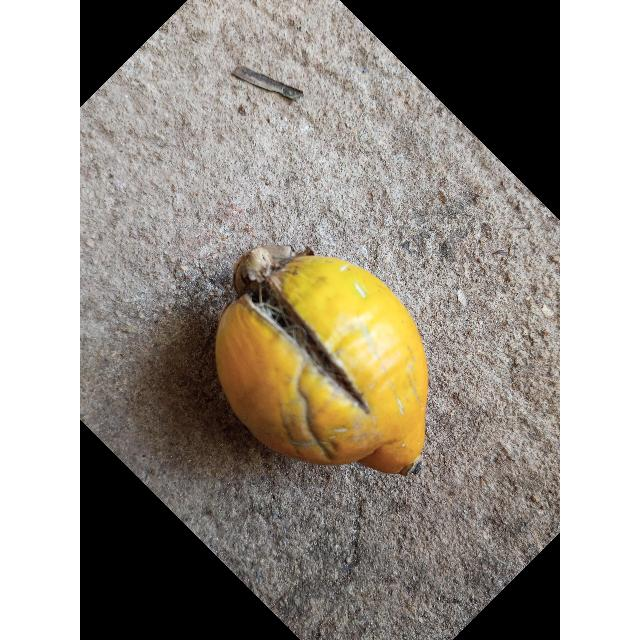damaged: (214, 250, 429, 477)
